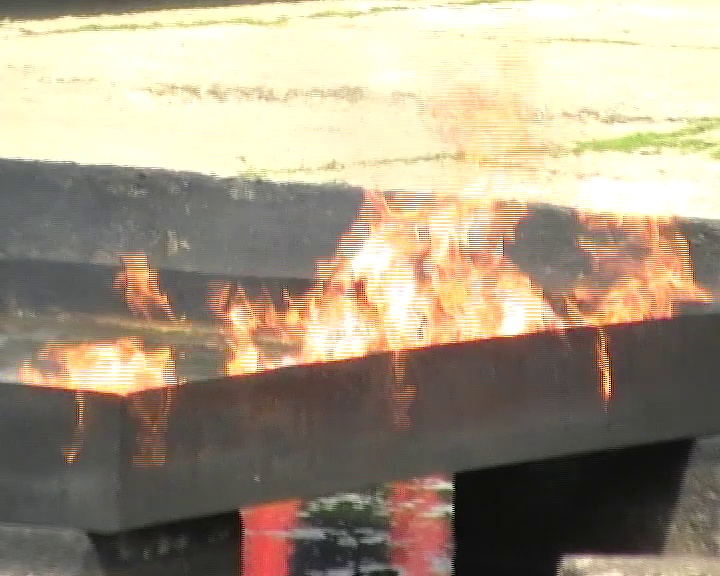fire: (214, 182, 694, 376), (21, 336, 180, 396), (116, 255, 165, 314)
